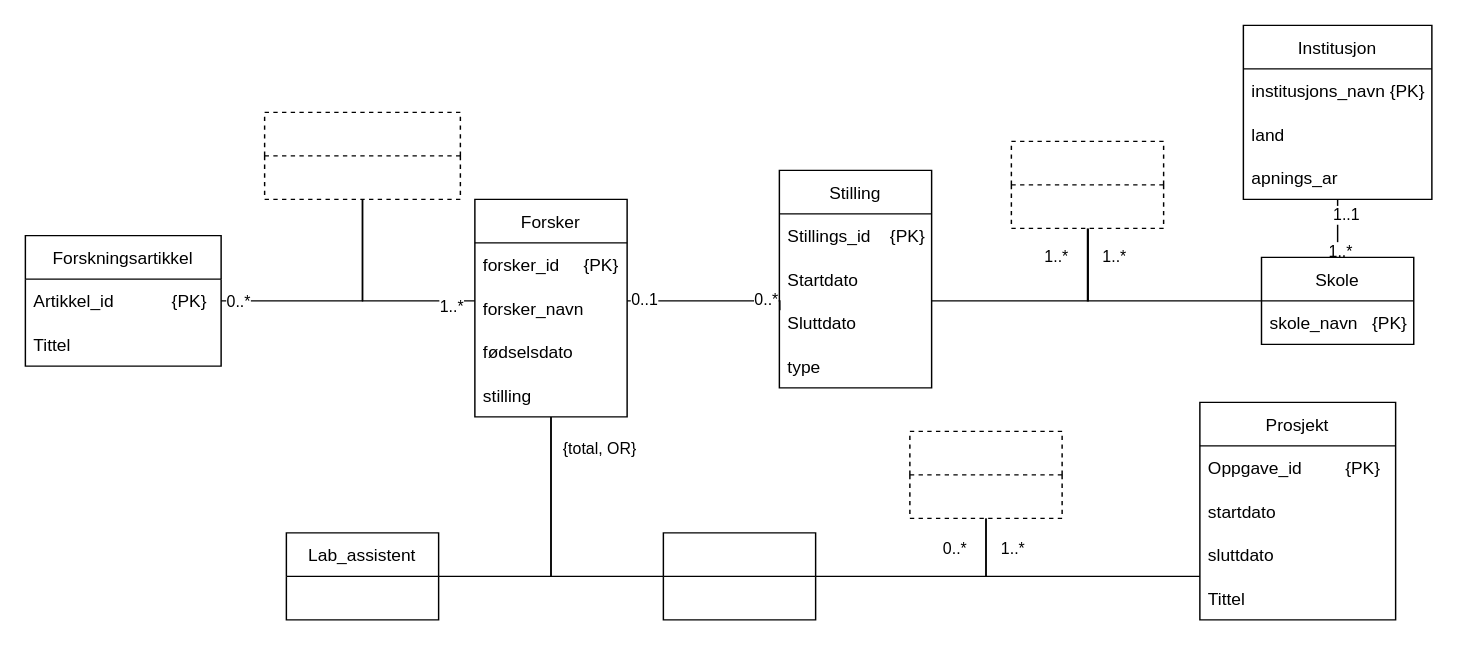
The diagram is 1457 pixels wide and 645 high, and some of its shapes have lost their labels. Each missing label, with the centre of its shape:
"Forsker_artikkel" goes at point 361,155.
"professor" goes at point 739,575.
"Professor_prosjekt" goes at point 985,474.
"Skole_stilling" goes at point 1087,184.
